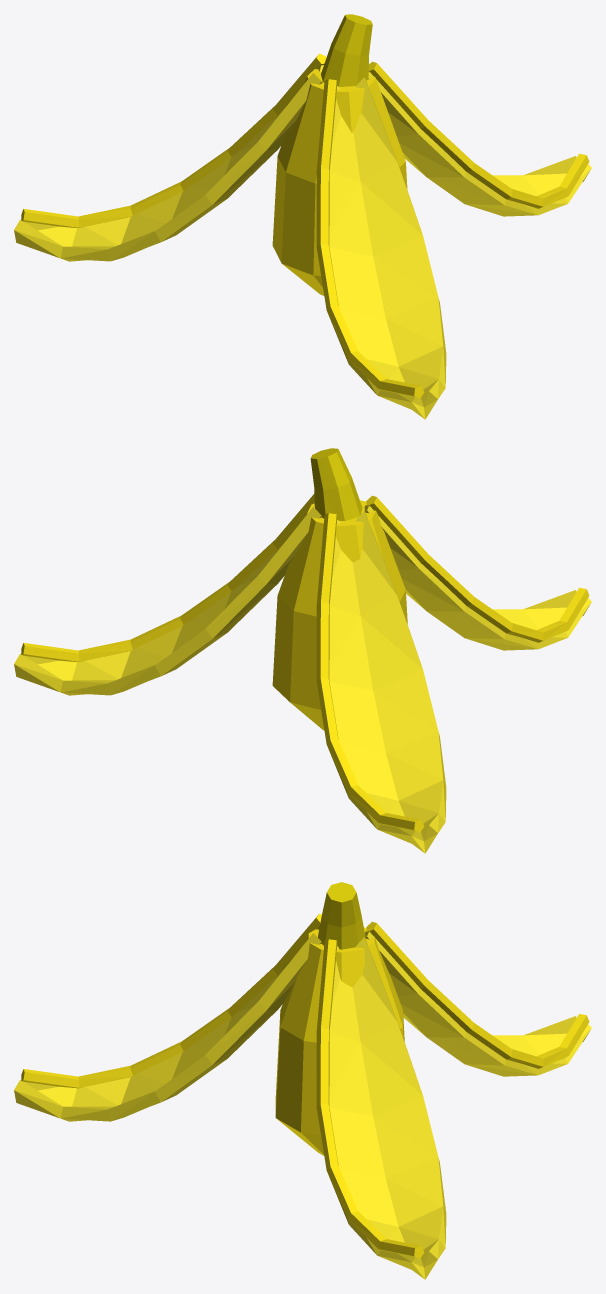
The model's file is Food_BananaPeel.fbx.
The picture shows the model from 3 angles, top to bottom: view 1: azimuth 30°, elevation 25°; view 2: azimuth 150°, elevation 25°; view 3: azimuth 270°, elevation 25°; orthographic projection.
Parts seen in each view (by area): view 1: Food_BananaPeel; view 2: Food_BananaPeel; view 3: Food_BananaPeel.
Boxes of the visible parts, bbox=[...] form: Food_BananaPeel: bbox=[14, 14, 591, 419]; Food_BananaPeel: bbox=[14, 448, 591, 853]; Food_BananaPeel: bbox=[14, 882, 591, 1279].
Bounding box in the file's own units: 109 × 57.62 × 110.
